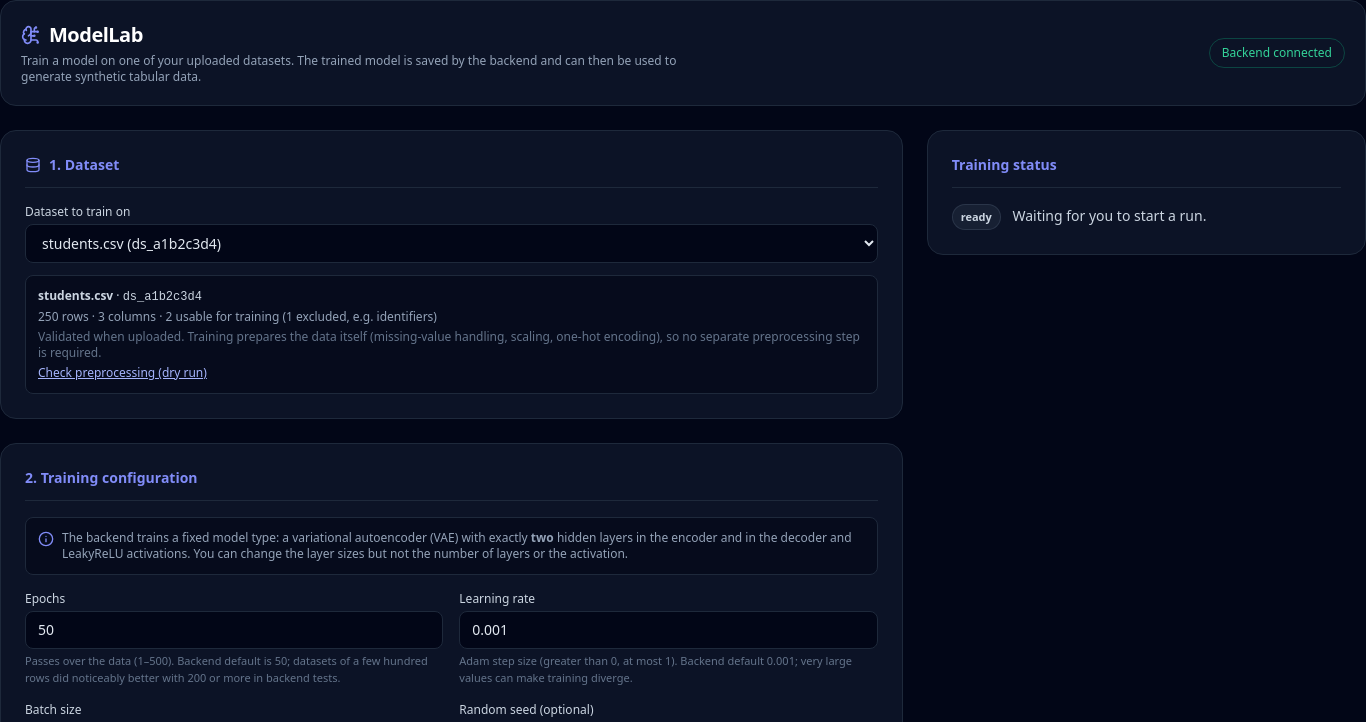
Scenario: ModelLab: datasets › runs the preprocessing dry run and shows the real response
This screenshot has width=1366, height=722.
Click the button "Check preprocessing (dry run)" at (122, 373), box [38, 365, 207, 381]
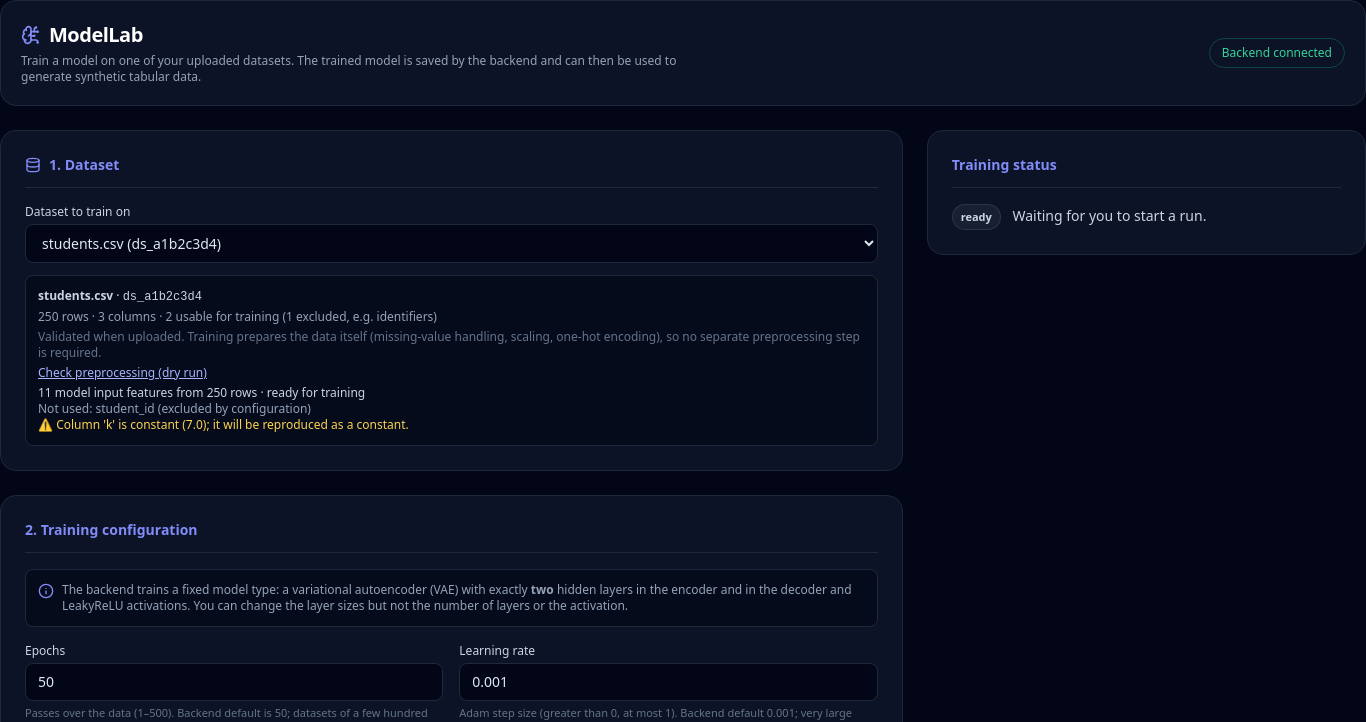
Check: the element with test id "preprocess-result" shows "11 model input features from 250 rows · ready for training", box [38, 384, 409, 433]
Check: the element with test id "preprocess-result" shows "student_id (excluded by configuration)", box [96, 400, 311, 417]
Check: the element with test id "preprocess-result" shows "is constant", box [56, 416, 409, 433]
